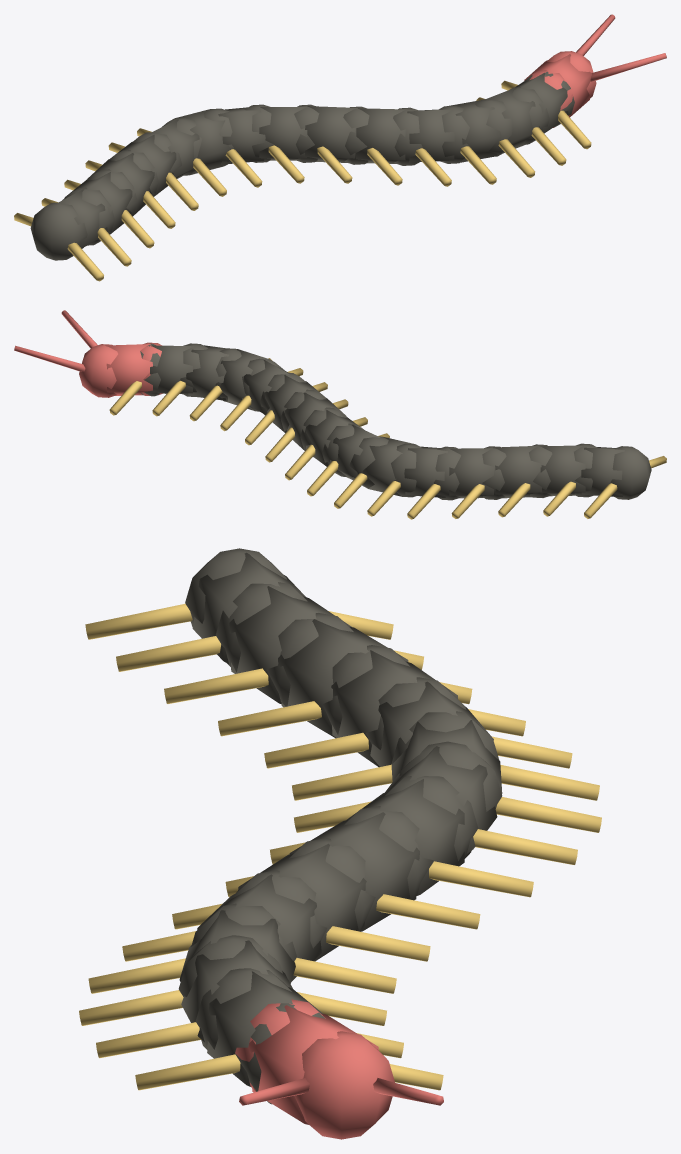
The model's file is red-headed-centipede.glb.
3 views of the same model, one above another, from view 1: azimuth 30°, elevation 25°; view 2: azimuth 150°, elevation 25°; view 3: azimuth 270°, elevation 25° (orthographic). The views are drawn at different scales.
Visible parts, largest first — view 1: e; view 2: e; view 3: e.
Boxes of the visible parts, bbox=[...] form: e: bbox=[14, 14, 666, 281]; e: bbox=[14, 310, 666, 519]; e: bbox=[79, 548, 601, 1139].
Bounding box in the file's own units: 0.6834 × 0.0576 × 0.2645.
